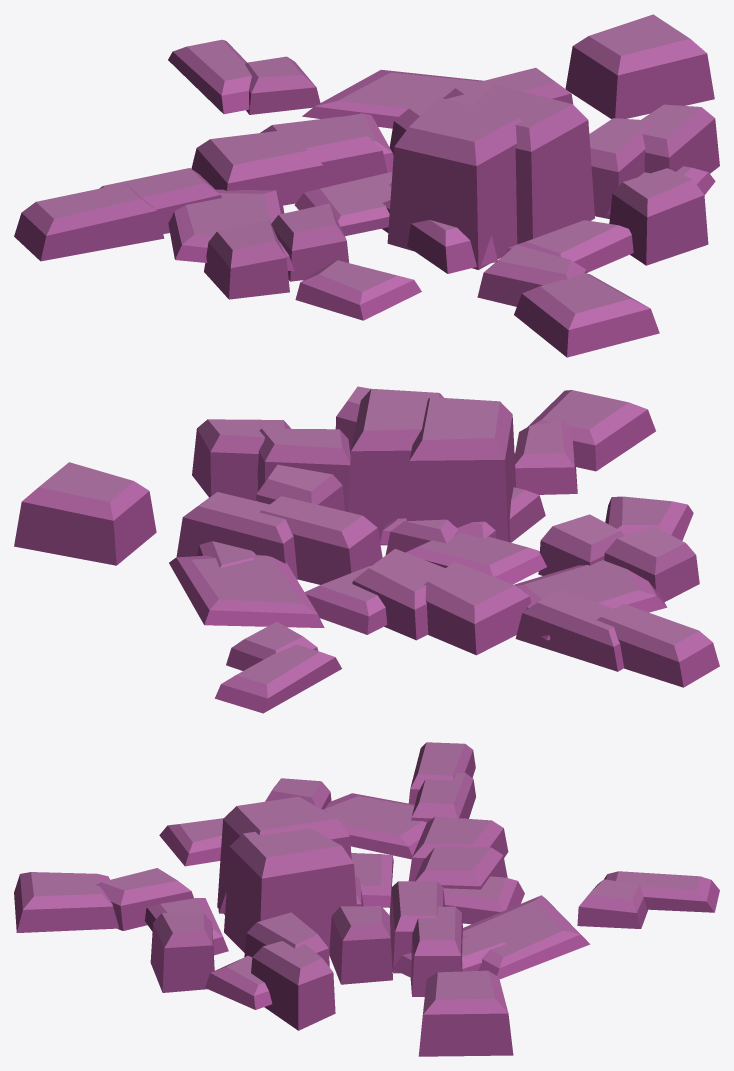
The model's file is Stage_03_Gravestone_particle2.fbx.
The picture shows the model from 3 angles, top to bottom: view 1: azimuth 30°, elevation 25°; view 2: azimuth 150°, elevation 25°; view 3: azimuth 270°, elevation 25°; orthographic projection. The views are drawn at different scales.
Visible parts, largest first — view 1: Stones001.003, Stones003.002, Rocks2.002, FenceSection010.003, FenceSection010.004, Rocks003.002; view 2: Stones001.003, Stones003.002, FenceSection010.003, Rocks2.002, FenceSection010.004, Rocks003.002; view 3: Stones003.002, Stones001.003, FenceSection010.003, Rocks2.002, Rocks003.002, FenceSection010.004.
Boxes of the visible parts, x1=… form: Stones001.003: x1=14, y1=14, x2=714, y2=299; Stones003.002: x1=99, y1=67, x2=719, y2=281; Rocks2.002: x1=294, y1=69, x2=633, y2=320; FenceSection010.003: x1=168, y1=39, x2=659, y2=357; FenceSection010.004: x1=245, y1=56, x2=586, y2=306; Rocks003.002: x1=168, y1=166, x2=715, y2=271; Stones001.003: x1=14, y1=386, x2=719, y2=687; Stones003.002: x1=176, y1=388, x2=624, y2=671; FenceSection010.003: x1=214, y1=390, x2=655, y2=713; Rocks2.002: x1=169, y1=453, x2=693, y2=627; FenceSection010.004: x1=226, y1=420, x2=577, y2=670; Rocks003.002: x1=197, y1=518, x2=667, y2=640; Stones003.002: x1=224, y1=772, x2=507, y2=1030; Stones001.003: x1=150, y1=742, x2=513, y2=1056; FenceSection010.003: x1=14, y1=871, x2=719, y2=932; Rocks2.002: x1=144, y1=818, x2=590, y2=979; Rocks003.002: x1=205, y1=793, x2=505, y2=1009; FenceSection010.004: x1=96, y1=868, x2=647, y2=930.
Bounding box in the file's own units: 6.09 × 1.03 × 6.28.
